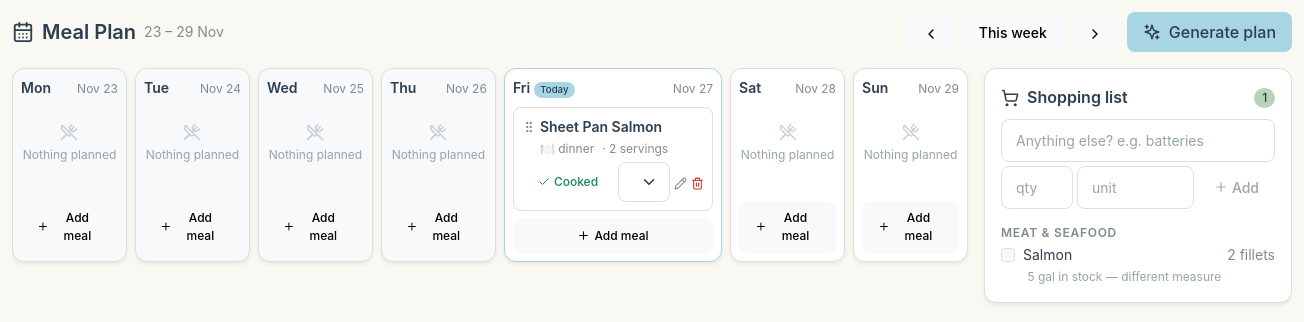
Test: marking a meal cooked › takes the ingredients out of the kitchen
Expected: the heading "Meal Plan" is shown, [42,19,136,45]
Click the button "Cooked" at x=568, y=182, box [522,173,614,191]
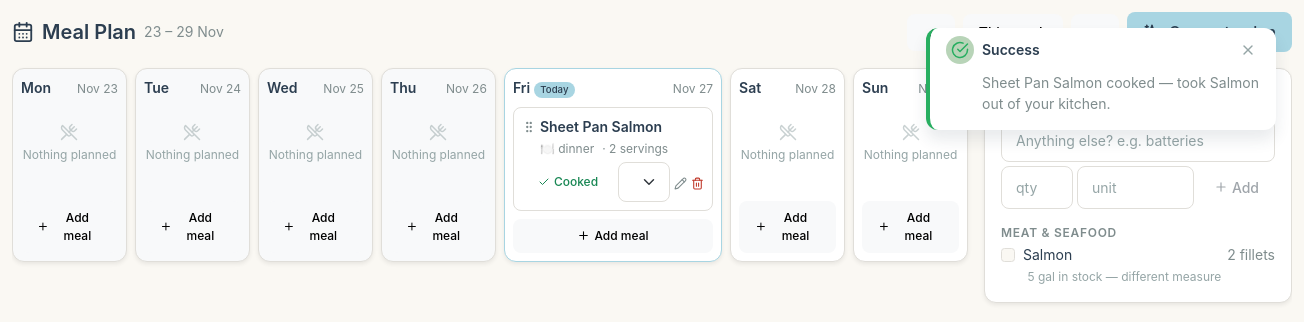
Expected: the text "Sheet Pan Salmon cooked — took Salmon out of your kitchen." is shown, [982,74,1259,112]
